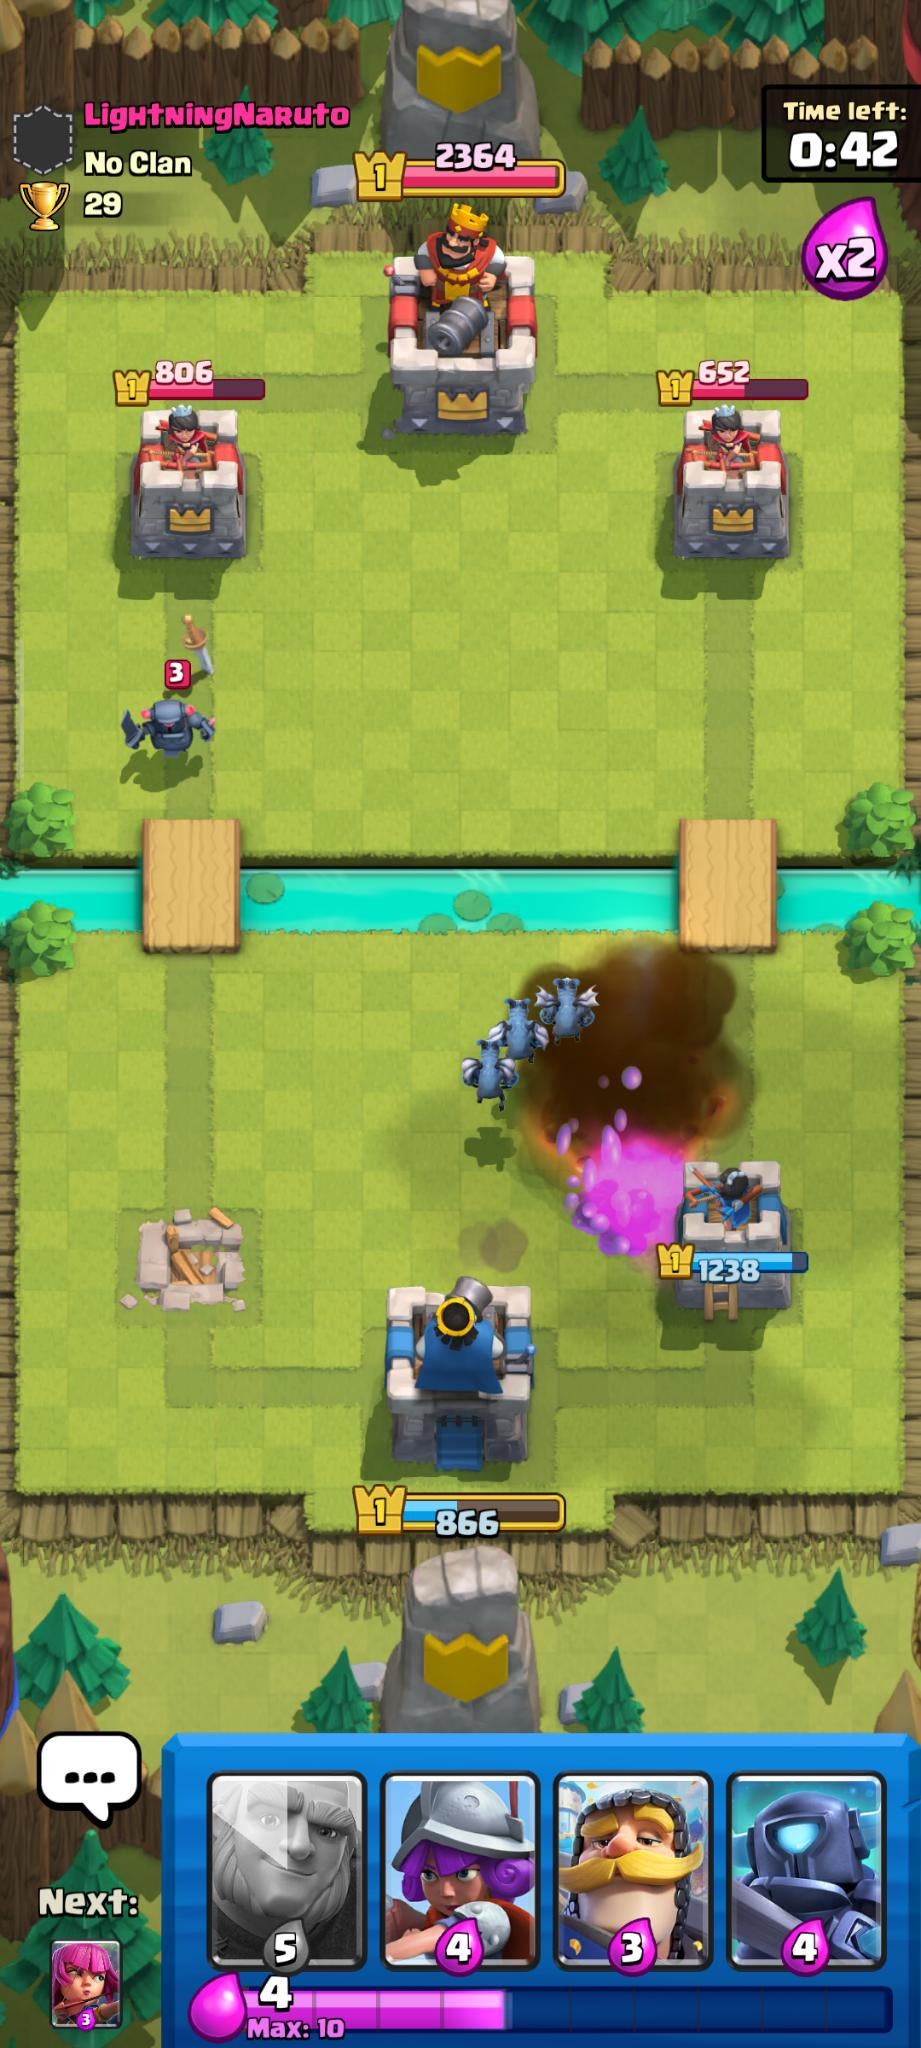gargouille: (545, 970, 601, 1057), (462, 1040, 520, 1115), (496, 995, 546, 1068)
mini_PEKKA: (120, 679, 214, 771)
